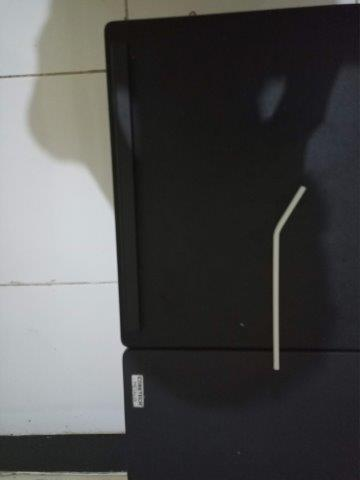sedotan: (272, 186, 306, 369)
